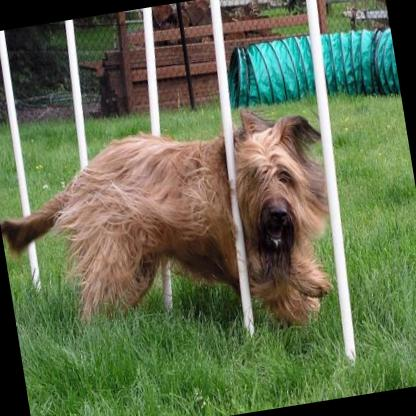briard: (0, 91, 351, 373)
